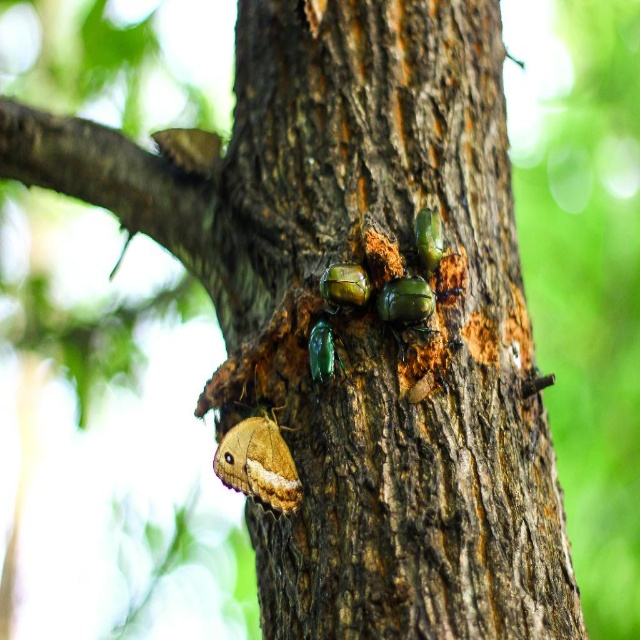Butterfly: (213, 364, 305, 522), (151, 128, 225, 183)
